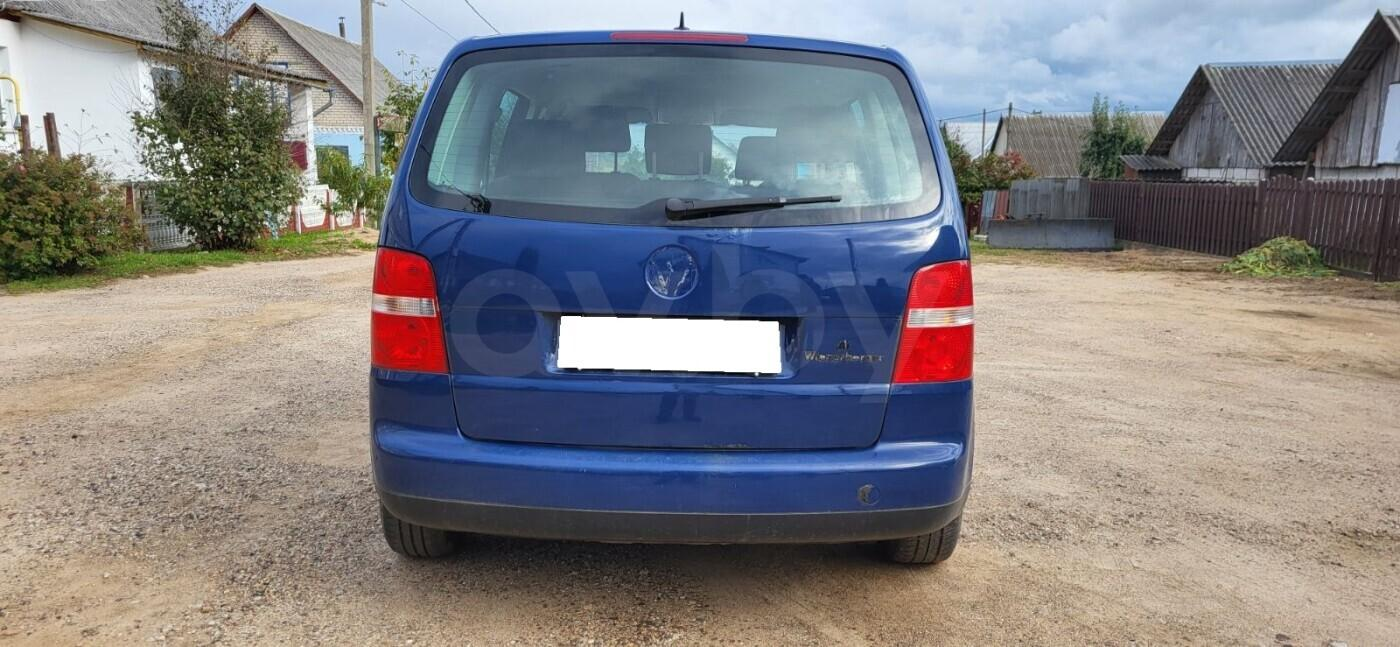Touran_2003-2006: (362, 29, 974, 569)
